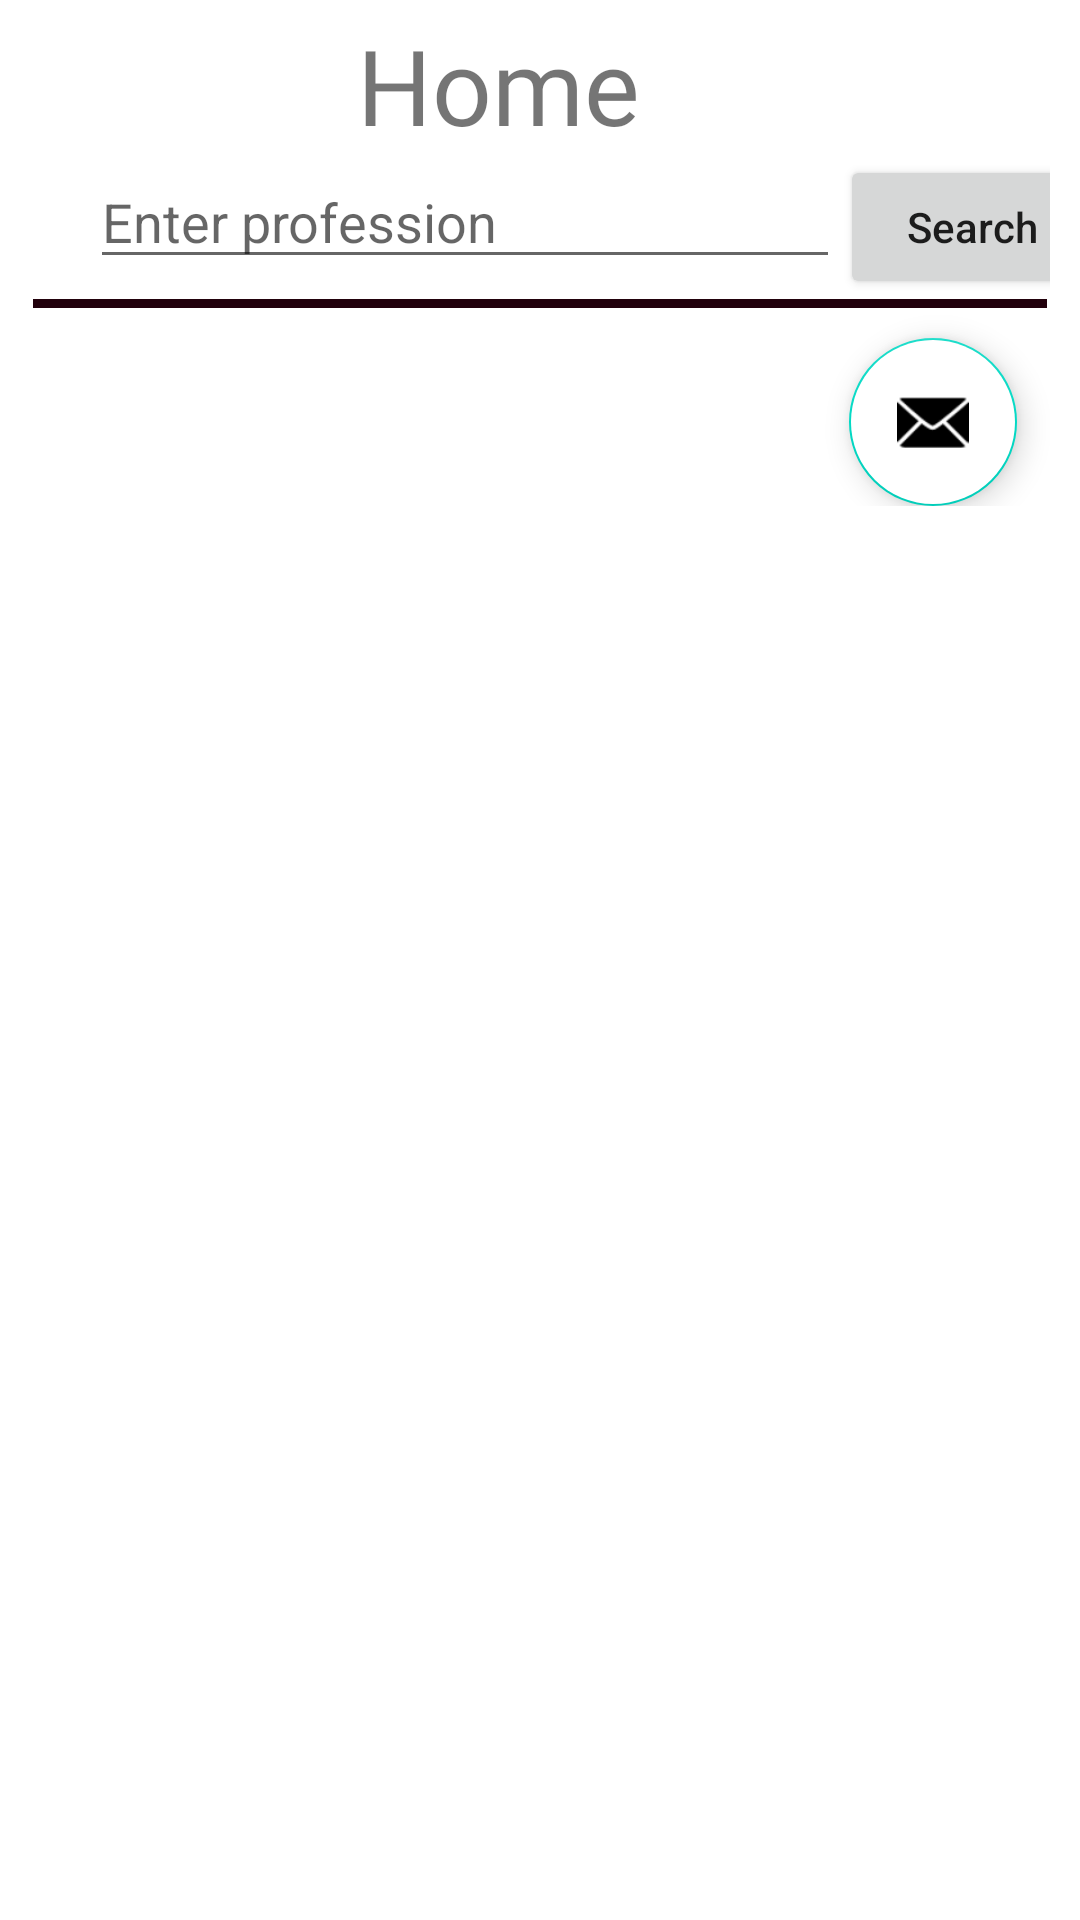

Point at icon controls on the screen. Image size 1080 x 1920, points as point (x, y).
email: point (933, 422)
